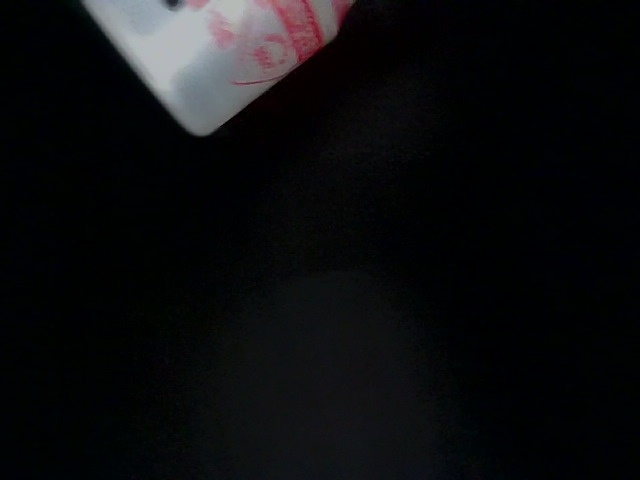CYLJ: (342, 300, 457, 402)
